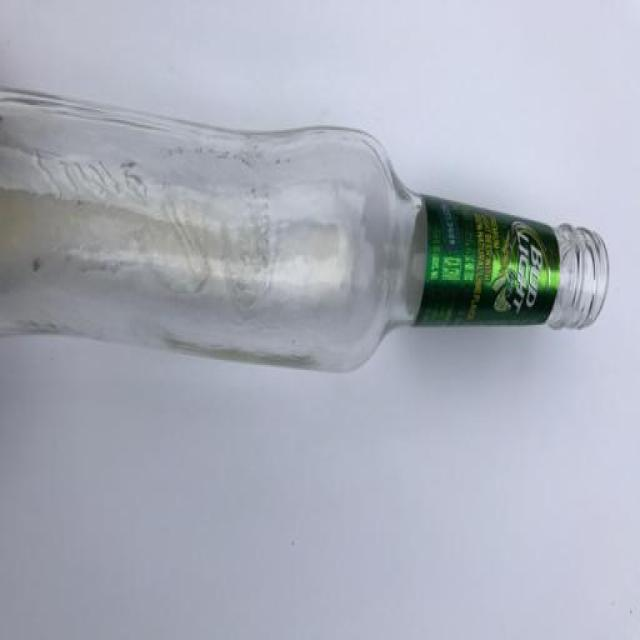glass: (0, 82, 610, 373)
